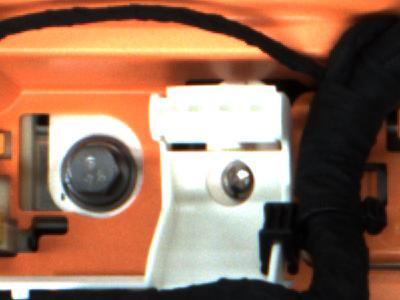nut_b: (61, 134, 136, 212)
